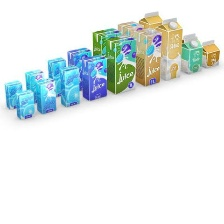carton: (104, 32, 136, 95), (156, 14, 182, 80), (133, 28, 163, 85), (80, 54, 108, 101), (62, 44, 87, 91), (178, 29, 202, 77), (57, 63, 81, 108), (43, 54, 68, 96), (89, 24, 120, 57), (34, 77, 56, 114), (22, 68, 44, 103), (1, 79, 24, 111), (199, 37, 221, 70), (114, 18, 144, 40), (14, 89, 34, 119), (136, 7, 160, 31)
